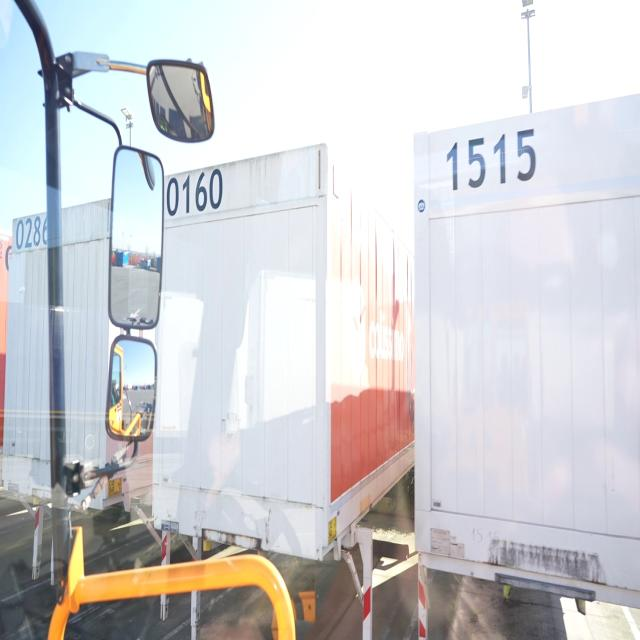Code: (443, 126, 545, 193), (163, 166, 224, 218)
